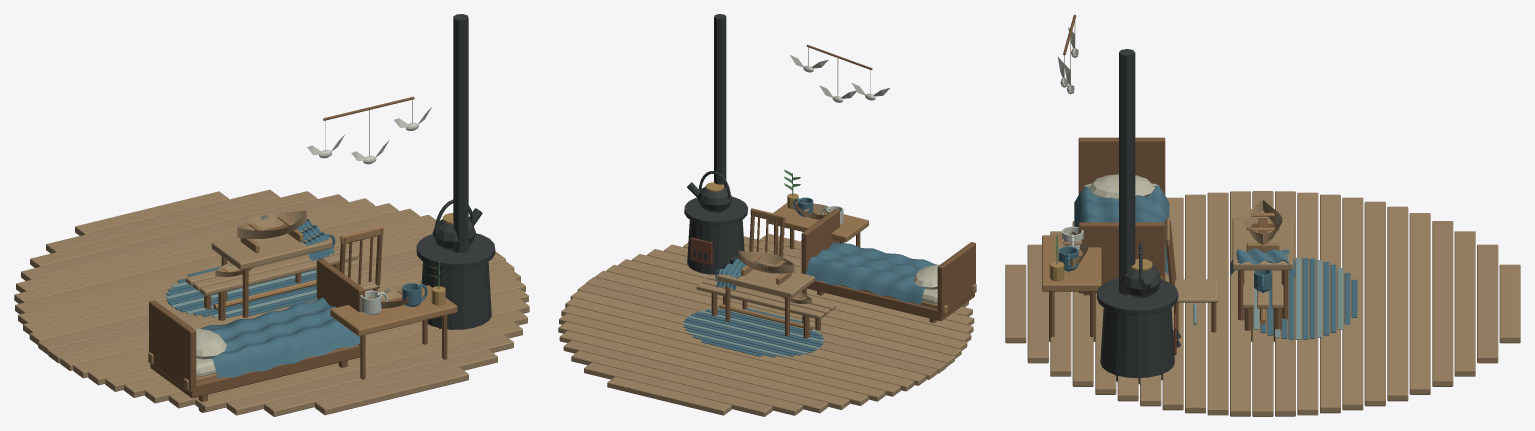
Rendered from harbor-rooms.glb.
3 views of the same model, side by side, from view 1: azimuth 30°, elevation 25°; view 2: azimuth 150°, elevation 25°; view 3: azimuth 270°, elevation 25° (orthographic). The views are drawn at different scales.
Parts seen in each view (by area): view 1: roomStructure, roomCloth, sourceCradle, tideBench, spareChair, roomCeramics, listeningMobile; view 2: roomStructure, roomCloth, sourceCradle, tideBench, listeningMobile, spareChair, roomCeramics; view 3: roomStructure, roomCloth, sourceCradle, tideBench, spareChair, roomCeramics, listeningMobile.
Part boxes in pixels (box(x1,y1,x2,y2)): roomStructure: box(14, 14, 529, 416); roomCloth: box(165, 266, 360, 378); sourceCradle: box(211, 210, 334, 317); tideBench: box(185, 234, 358, 320); spareChair: box(317, 226, 383, 291); roomCeramics: box(360, 257, 449, 315); listeningMobile: box(307, 96, 431, 164); roomStructure: box(558, 14, 976, 416); roomCloth: box(683, 242, 939, 357); sourceCradle: box(716, 250, 814, 336); tideBench: box(696, 269, 835, 338); listeningMobile: box(790, 44, 890, 102); spareChair: box(749, 208, 785, 266); roomCeramics: box(784, 169, 843, 224); roomStructure: box(1005, 49, 1520, 416); roomCloth: box(1074, 174, 1357, 339); sourceCradle: box(1230, 200, 1295, 320); tideBench: box(1242, 270, 1283, 341); spareChair: box(1165, 217, 1218, 332); roomCeramics: box(1049, 226, 1083, 280); listeningMobile: box(1058, 14, 1078, 94).
Bounding box in the file's own units: 4.99 × 3.4 × 4.93.
